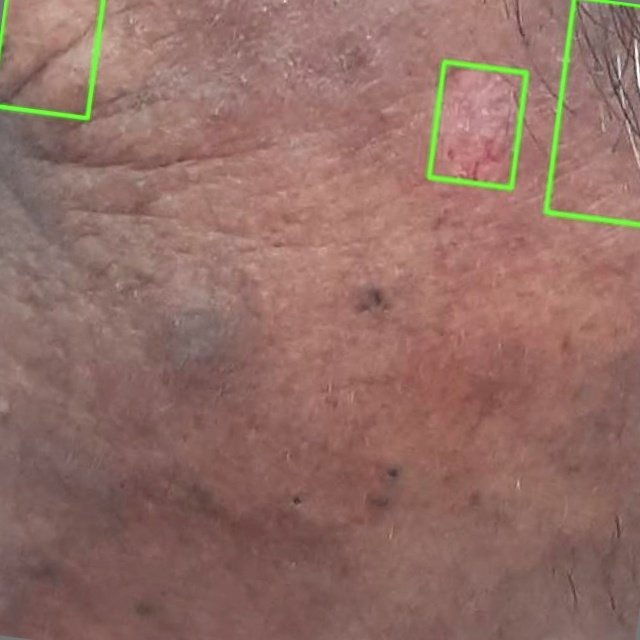Contact Dermatitis: (429, 61, 526, 188)
